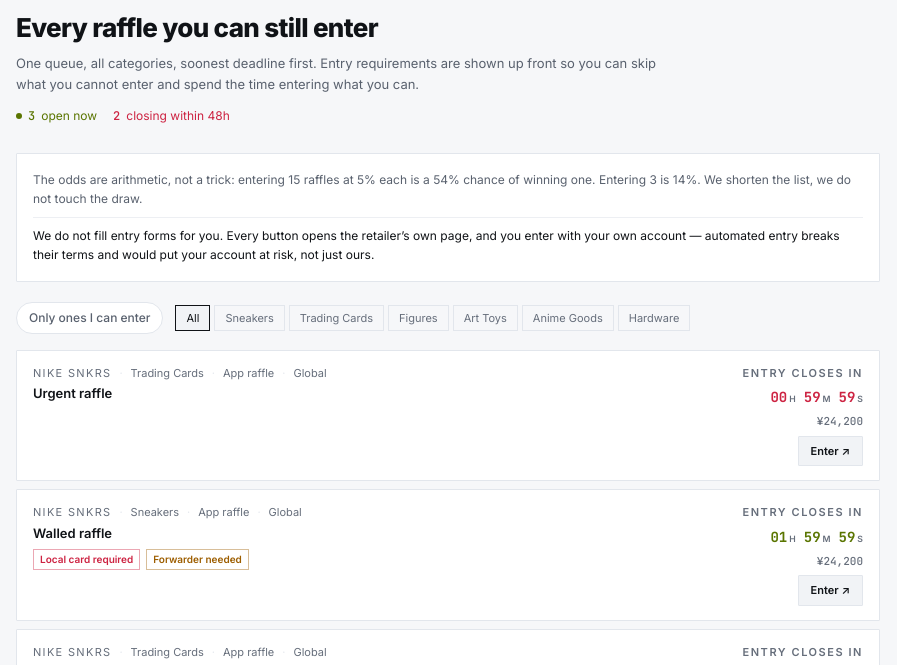
Test: the queue › filters by category
This screenshot has width=897, height=665.
Click the button "Art Toys". click: (485, 318)
box: [453,304,518,331]
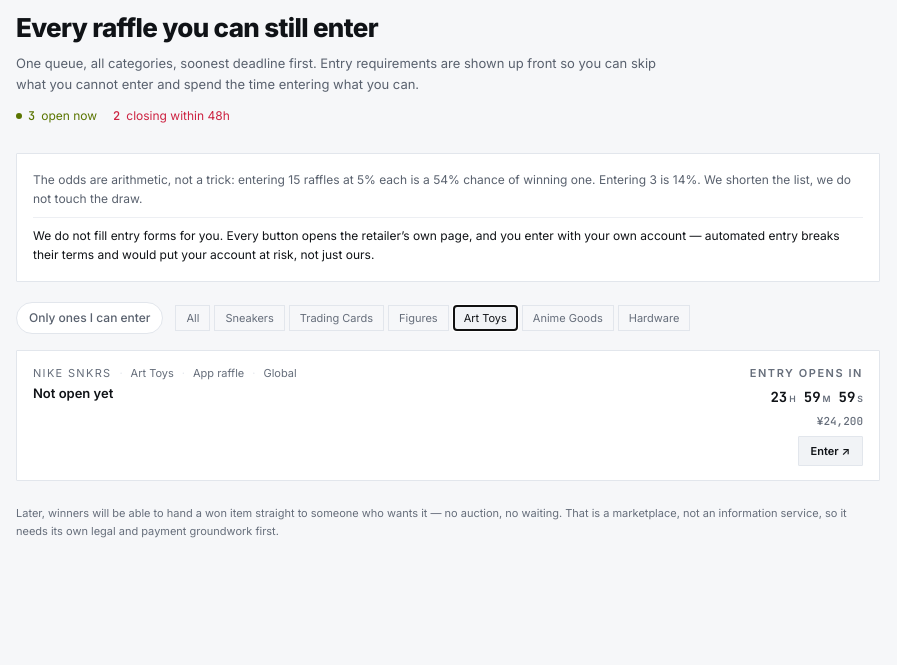
Expected: the list item shows "Not open yet", [33,385,734,403]
Expected: the number of list items is 1, [16,350,880,481]
